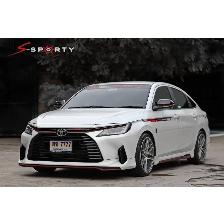NON-EV: (18, 81, 216, 178)
